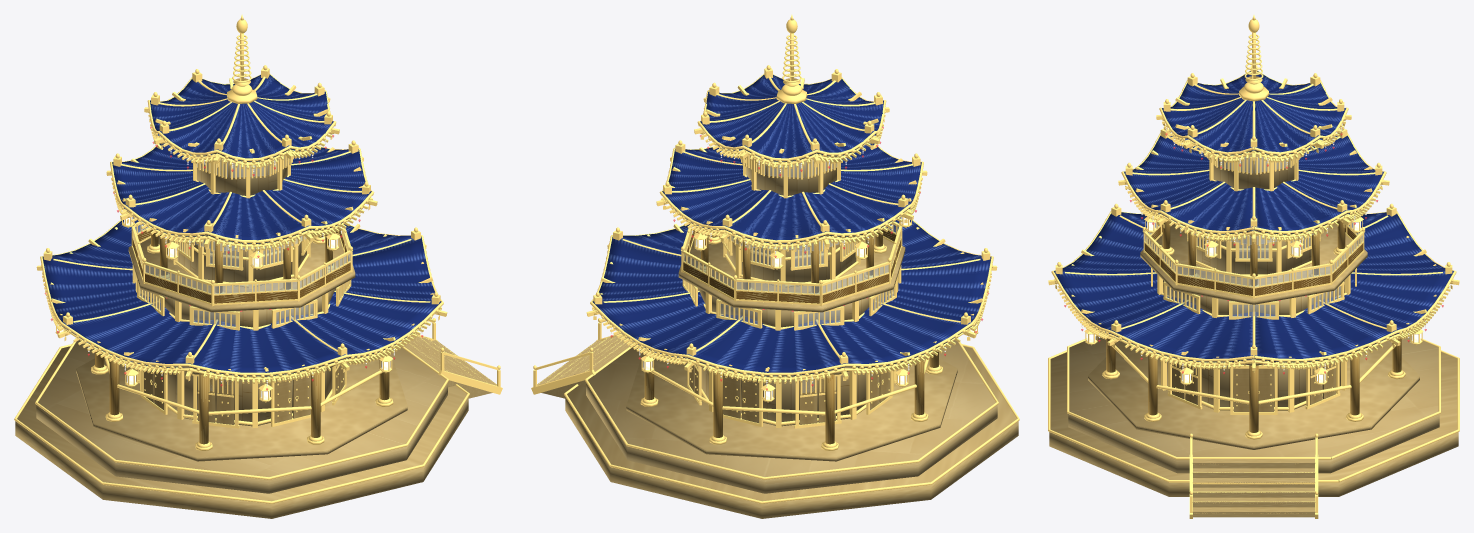
The model's file is pavilion_b.glb.
The picture shows the model from 3 angles, left to right: view 1: azimuth 30°, elevation 25°; view 2: azimuth 150°, elevation 25°; view 3: azimuth 270°, elevation 25°; orthographic projection. The views are drawn at different scales.
Parts seen in each view (by area): view 1: oroof, Cylinder.001, oroof.001, Cylinder.002, Cylinder, oroof.002, Cylinder.239, Cylinder.043, trim, trim.152, Cylinder.296, trim.001 (+16 smaller); view 2: oroof, Cylinder.001, oroof.001, Cylinder.002, Cylinder, oroof.002, Cylinder.239, Cylinder.043, trim, trim.152, Cylinder.296, trim.001 (+16 smaller); view 3: oroof, oroof.001, Cylinder.001, Cylinder.002, Cylinder, oroof.002, Cylinder.239, Cylinder.296, Cylinder.043, trim.152, Cylinder.443, trim.001 (+23 smaller).
Boxes of the visible parts, left/top/right/bottom form: oroof: left=42, top=217, right=441, bottom=376; Cylinder.001: left=36, top=340, right=447, bottom=493; oroof.001: left=112, top=143, right=371, bottom=243; Cylinder.002: left=76, top=351, right=407, bottom=461; Cylinder: left=15, top=346, right=468, bottom=518; oroof.002: left=150, top=74, right=333, bottom=161; Cylinder.239: left=128, top=235, right=355, bottom=312; Cylinder.043: left=167, top=367, right=332, bottom=426; trim: left=14, top=344, right=469, bottom=503; trim.152: left=40, top=220, right=443, bottom=375; Cylinder.296: left=177, top=236, right=306, bottom=287; trim.001: left=35, top=338, right=448, bottom=479; oroof: left=592, top=217, right=991, bottom=376; Cylinder.001: left=586, top=340, right=997, bottom=493; oroof.001: left=662, top=143, right=921, bottom=243; Cylinder.002: left=626, top=351, right=957, bottom=461; Cylinder: left=565, top=346, right=1018, bottom=518; oroof.002: left=700, top=75, right=883, bottom=161; Cylinder.239: left=678, top=235, right=905, bottom=312; Cylinder.043: left=701, top=367, right=866, bottom=426; trim: left=564, top=344, right=1019, bottom=503; trim.152: left=590, top=220, right=993, bottom=375; Cylinder.296: left=727, top=236, right=856, bottom=287; trim.001: left=585, top=338, right=998, bottom=479; oroof: left=1054, top=212, right=1453, bottom=362; oroof.001: left=1124, top=135, right=1383, bottom=234; Cylinder.001: left=1068, top=336, right=1439, bottom=473; Cylinder.002: left=1088, top=341, right=1419, bottom=449; Cylinder: left=1049, top=352, right=1458, bottom=496; oroof.002: left=1162, top=71, right=1345, bottom=155; Cylinder.239: left=1140, top=224, right=1367, bottom=304; Cylinder.296: left=1196, top=235, right=1311, bottom=277; Cylinder.043: left=1167, top=356, right=1340, bottom=410; trim.152: left=1051, top=211, right=1456, bottom=361; Cylinder.443: left=1213, top=152, right=1294, bottom=189; trim.001: left=1067, top=335, right=1440, bottom=459.
Size of the model in its own units: 15.8 by 15.09 by 14.13.
Materials: 43 (11 with a texture image).
